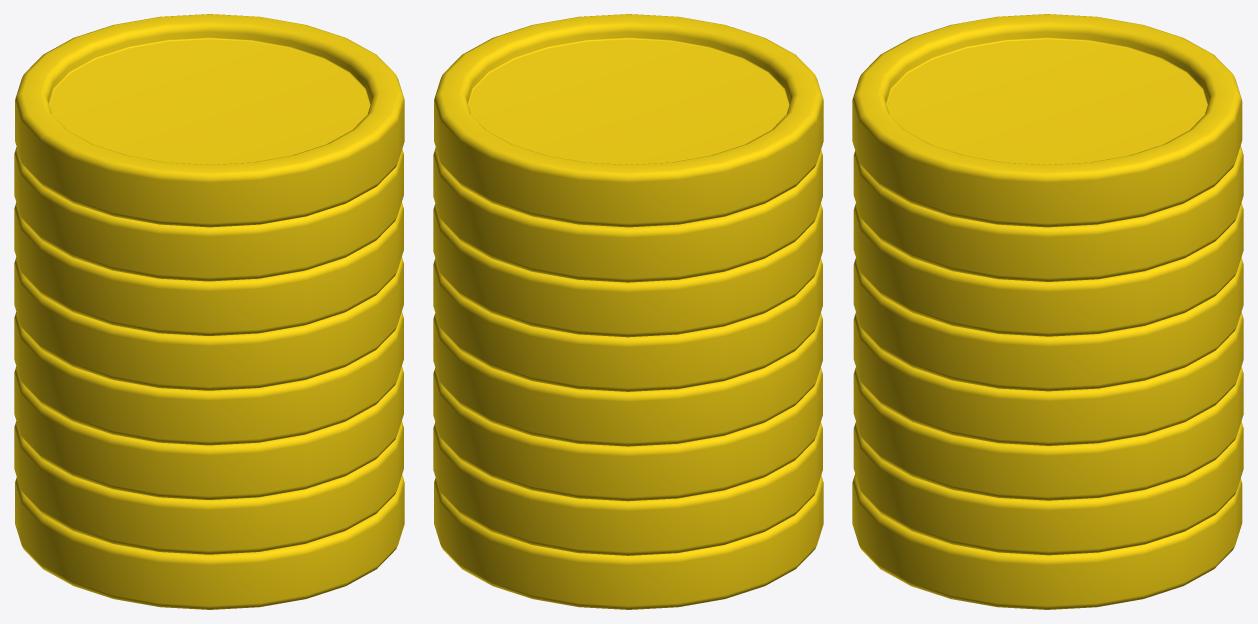
The model's file is Public_1_Stack_of_Coins_6.glb.
3 views of the same model, side by side, from view 1: azimuth 30°, elevation 25°; view 2: azimuth 150°, elevation 25°; view 3: azimuth 270°, elevation 25° (orthographic).
Visible parts, largest first — view 1: Public_1_Stack_of_Coins_6; view 2: Public_1_Stack_of_Coins_6; view 3: Public_1_Stack_of_Coins_6.
Boxes of the visible parts, x1,y1,x2,y2 form: Public_1_Stack_of_Coins_6: (14,14,404,609); Public_1_Stack_of_Coins_6: (433,14,823,609); Public_1_Stack_of_Coins_6: (852,14,1243,609).
Bounding box in the file's own units: 1.11 × 1.38 × 1.12.
1 material, 1 textured.
